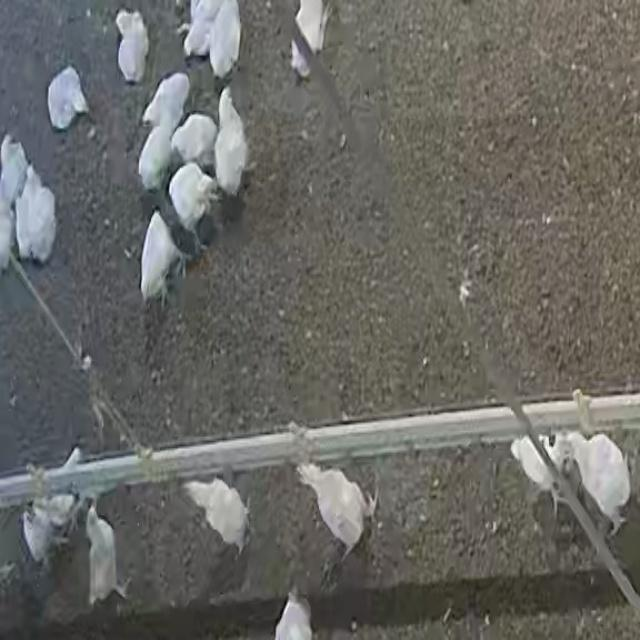chicken: (291, 463, 383, 560), (567, 429, 633, 538), (179, 478, 264, 561), (83, 502, 137, 608), (215, 81, 262, 201), (165, 161, 223, 255), (139, 210, 190, 307), (12, 166, 60, 262), (42, 61, 96, 134), (108, 11, 154, 87), (169, 114, 222, 173)
